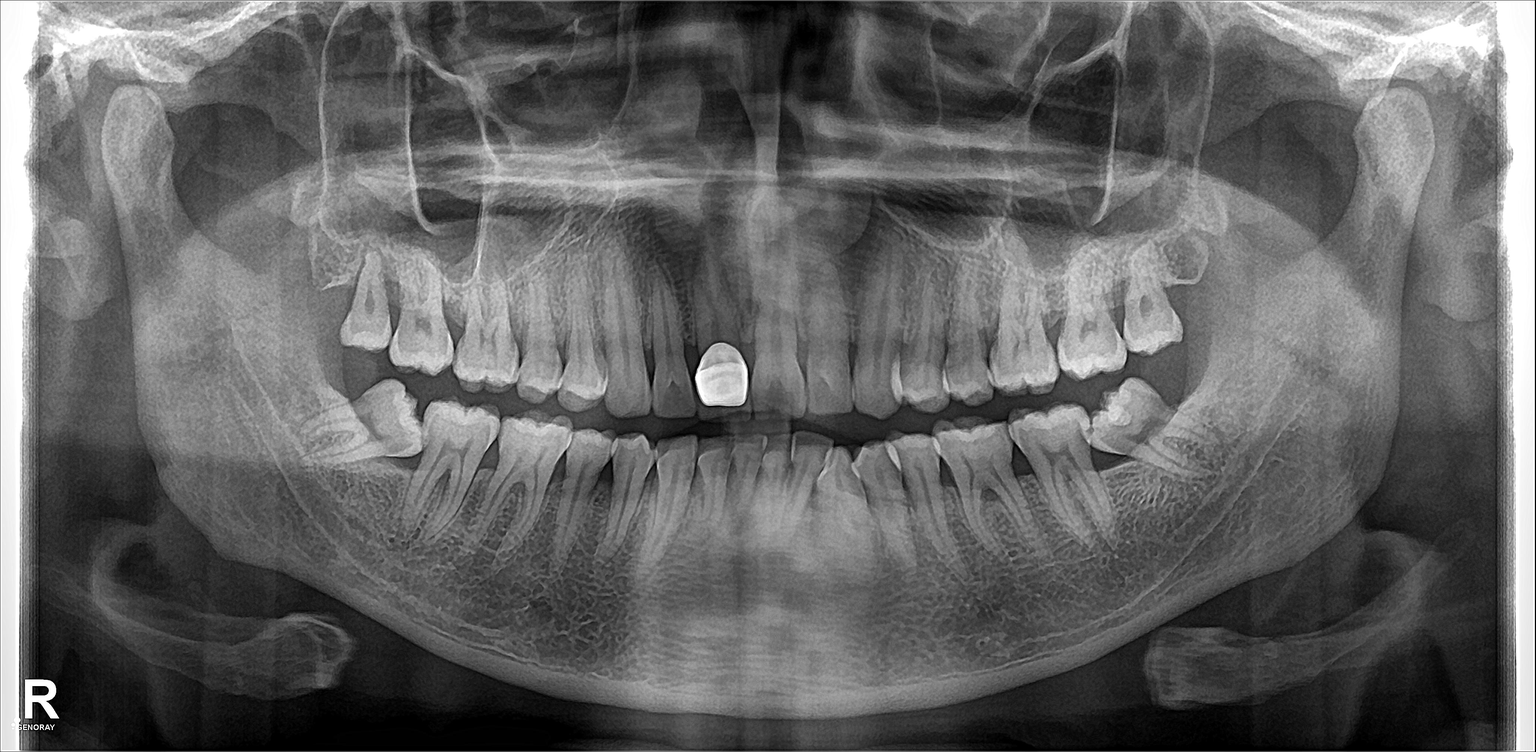Endodontically Treated Tooth: (689, 277, 751, 411)
Impacted Third Molar: (1104, 376, 1214, 472), (311, 393, 417, 475)
Missing Tooth: (1170, 238, 1216, 341), (313, 238, 355, 344)
